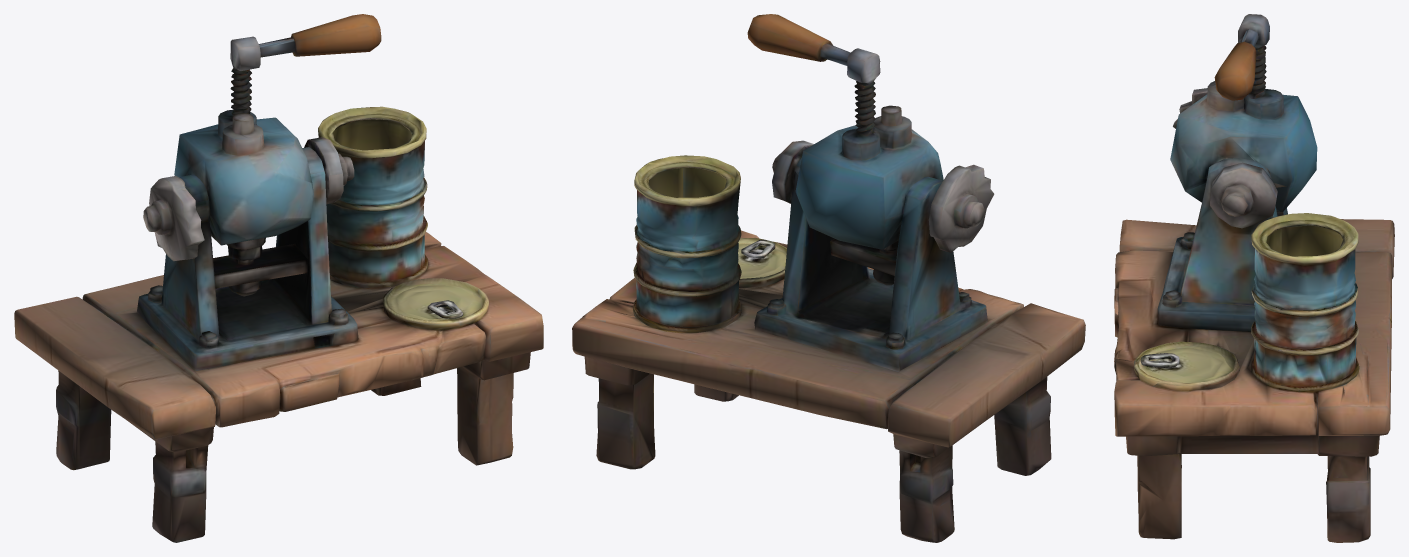
File: guantouji-1.glb
3 views of the same model, side by side, from view 1: azimuth 30°, elevation 25°; view 2: azimuth 150°, elevation 25°; view 3: azimuth 270°, elevation 25° (orthographic). The views are drawn at different scales.
Visible parts, largest first — view 1: node_0; view 2: node_0; view 3: node_0.
Part boxes in pixels (bbox=[...]): node_0: bbox=[14, 14, 543, 542]; node_0: bbox=[572, 14, 1085, 542]; node_0: bbox=[1114, 14, 1394, 542].
Bounding box in the file's own units: 0.8151 × 0.8607 × 0.5138.
1 material, 1 textured.
